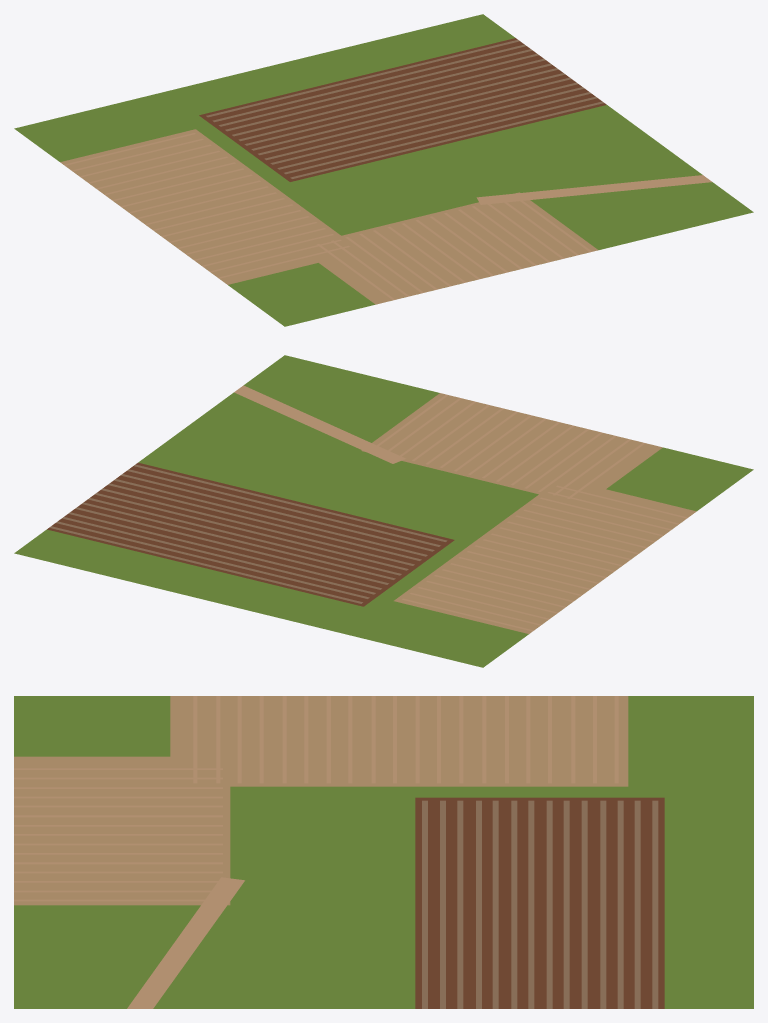
File: crossing-1-0.glb
3 renders of one model, top to bottom at view 1: azimuth 30°, elevation 25°; view 2: azimuth 150°, elevation 25°; view 3: azimuth 270°, elevation 25°, orthographic. The views are drawn at different scales.
Visible parts, largest first — view 1: crossing-1-0; view 2: crossing-1-0; view 3: crossing-1-0.
Part boxes in pixels (box(x1,y1,x2,y2)): crossing-1-0: box(14, 14, 753, 326); crossing-1-0: box(14, 355, 753, 667); crossing-1-0: box(14, 696, 753, 1008).
Bounding box in the file's own units: 100 × 0.0072 × 100.
